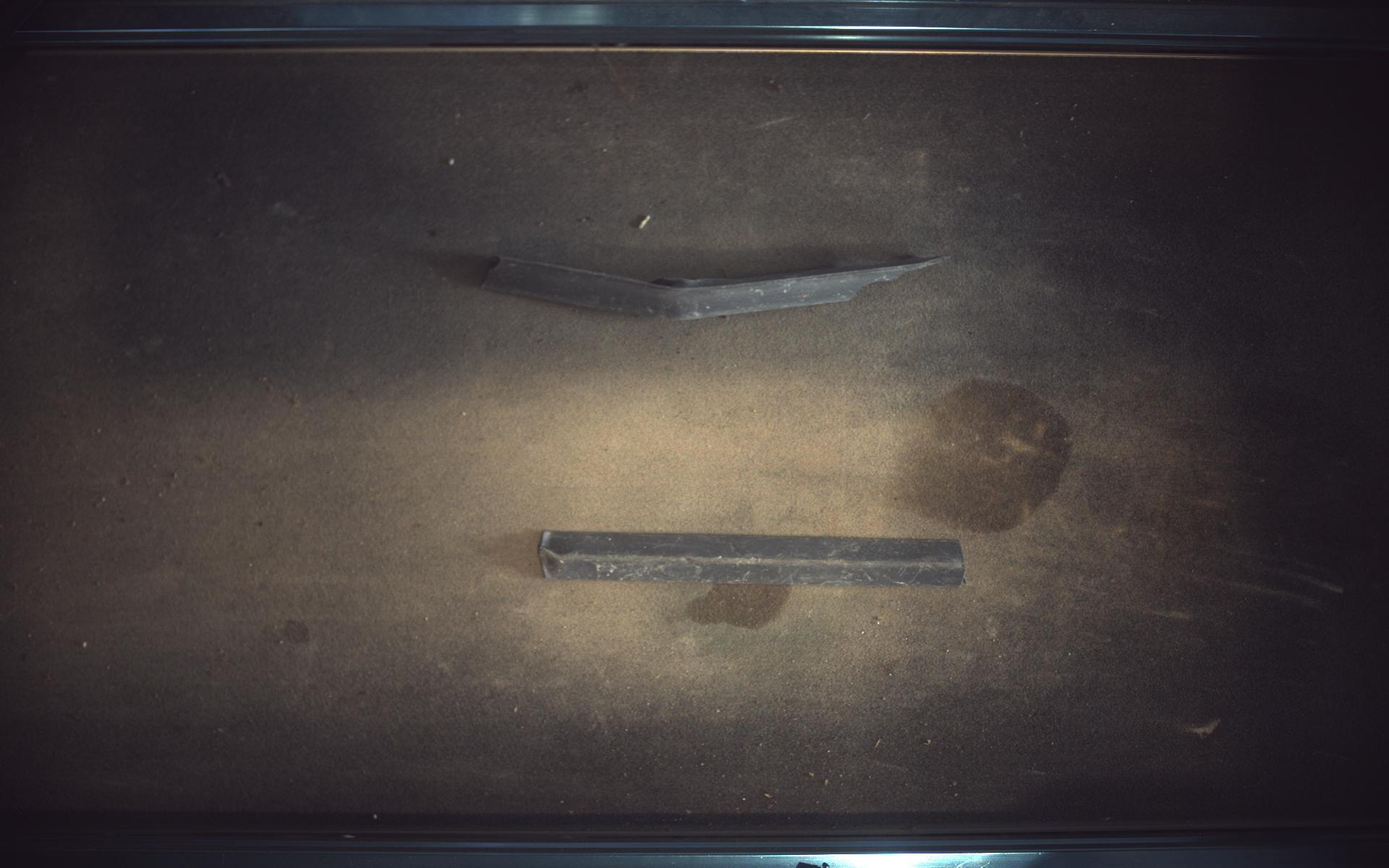plastic: (483, 256, 950, 320), (540, 531, 967, 587)
